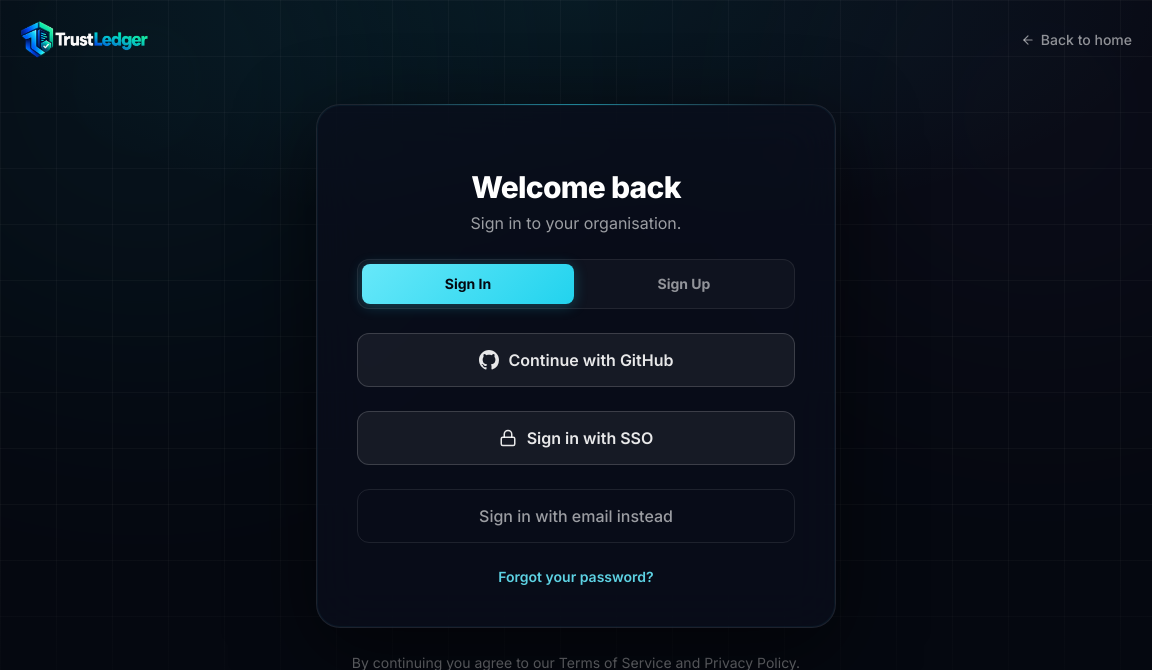
sign in / sign up forms › sign-up still checks the two passwords match
Click the tab "Sign Up" at (684, 284), box [578,264,790,304]
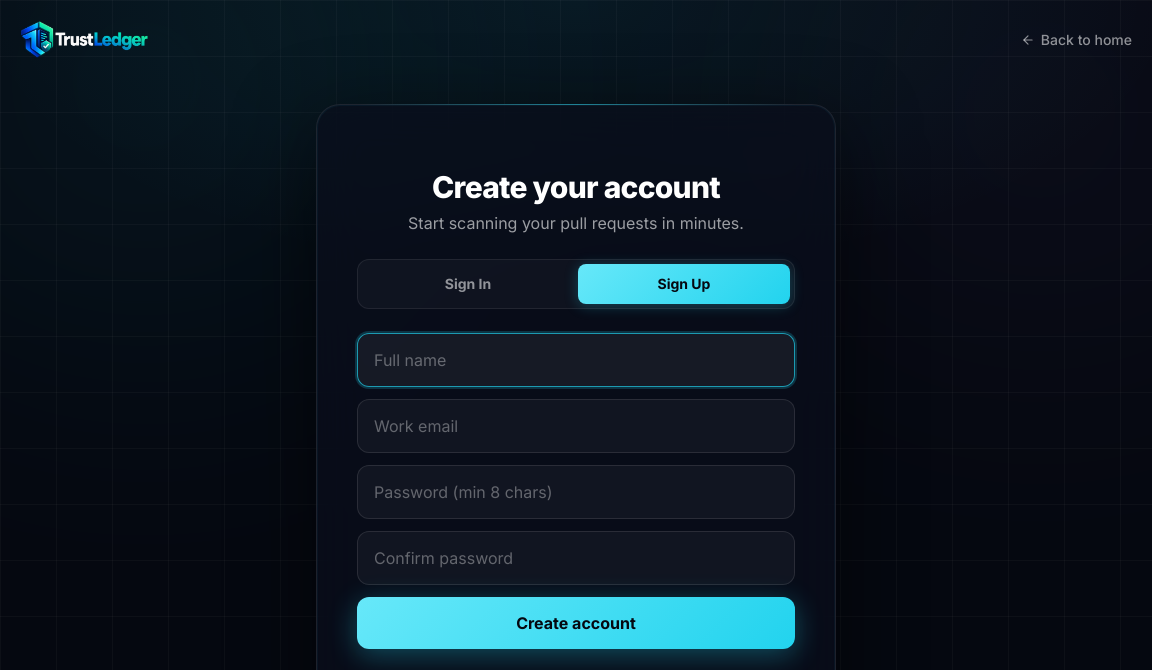
Type "Ana" into the field labelled "Full name" at (576, 360), box [357,333,795,387]
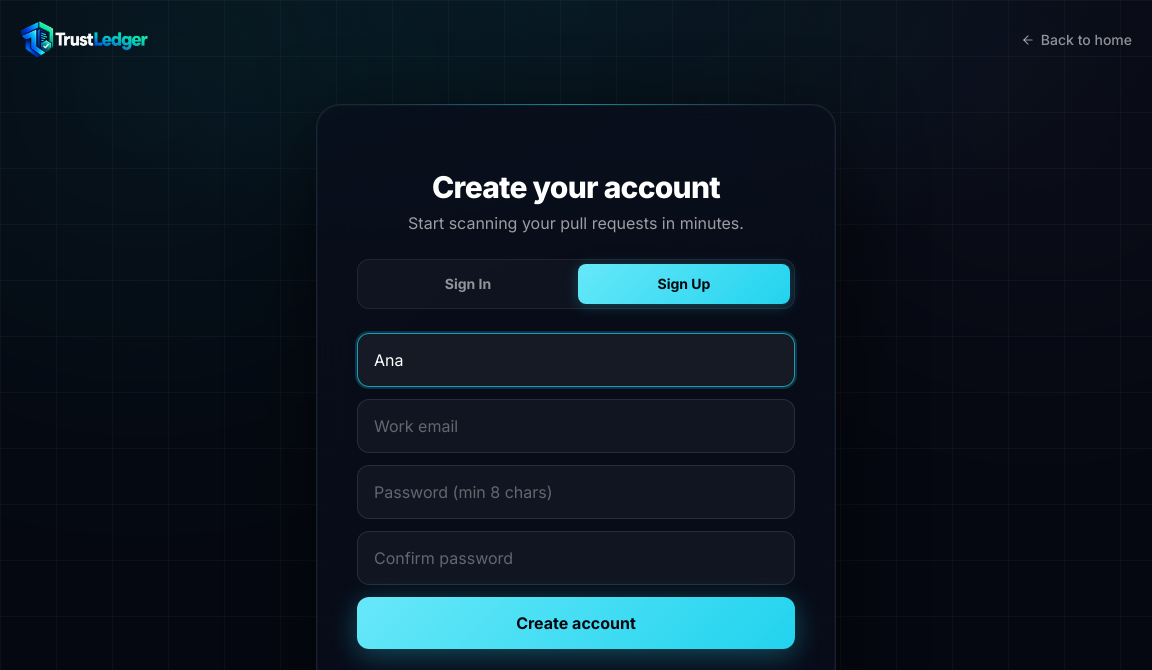
Type "ana@acme.dev" into the field labelled "Work email" at (576, 426), box [357,399,795,453]
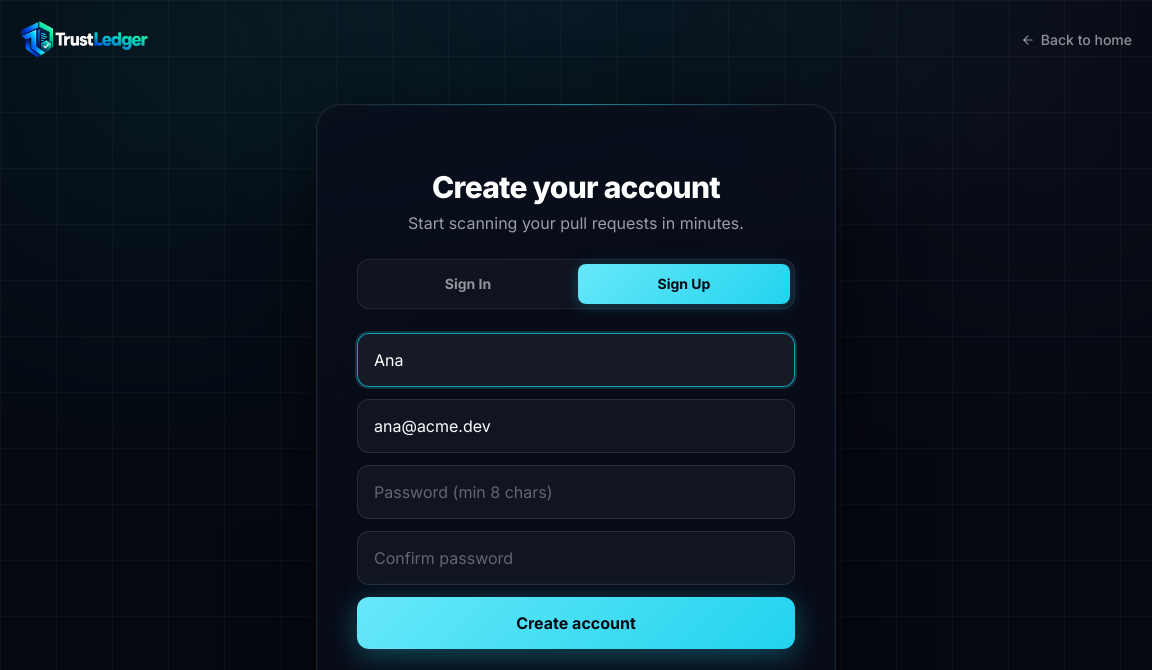
Type "longenough1" into the password field labelled "Password" at (576, 492), box [357,465,795,519]
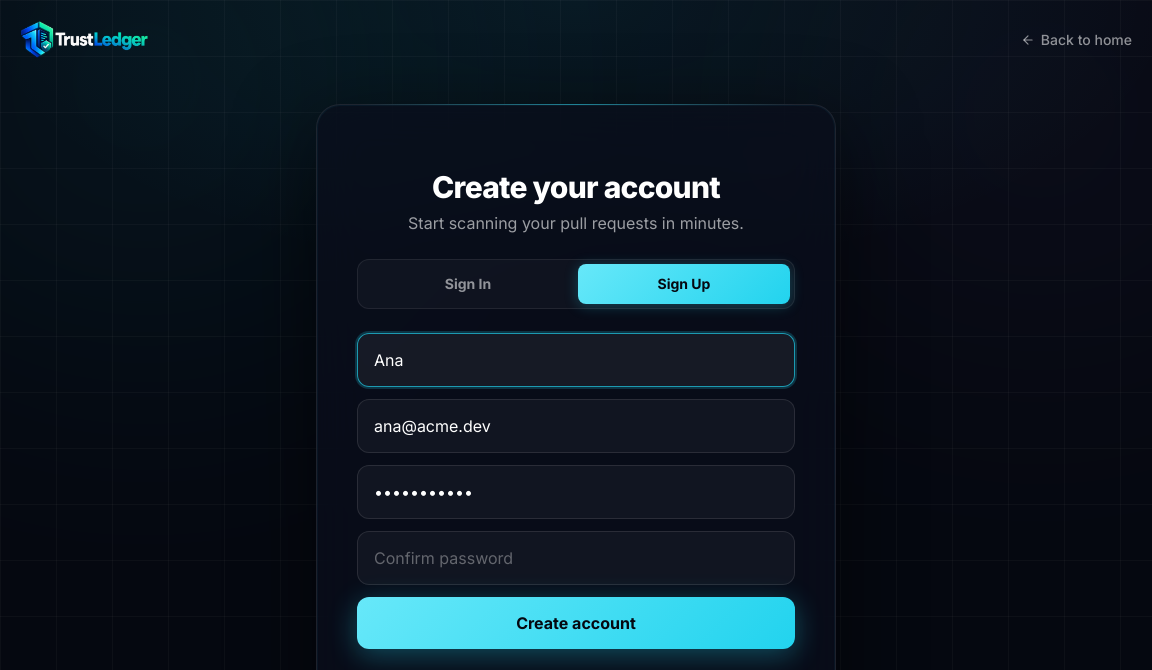
Type "longenough2" into the password field labelled "Confirm password" at (576, 558), box [357,531,795,585]
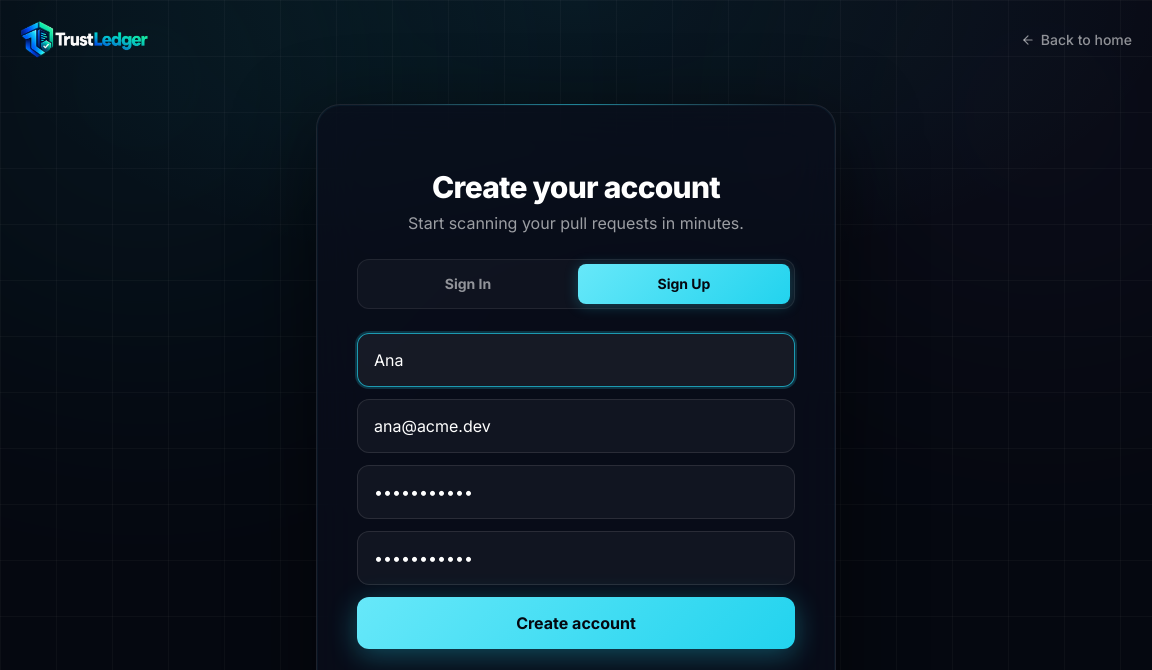
Click the button "Create account" at (576, 623), box [357,597,795,649]
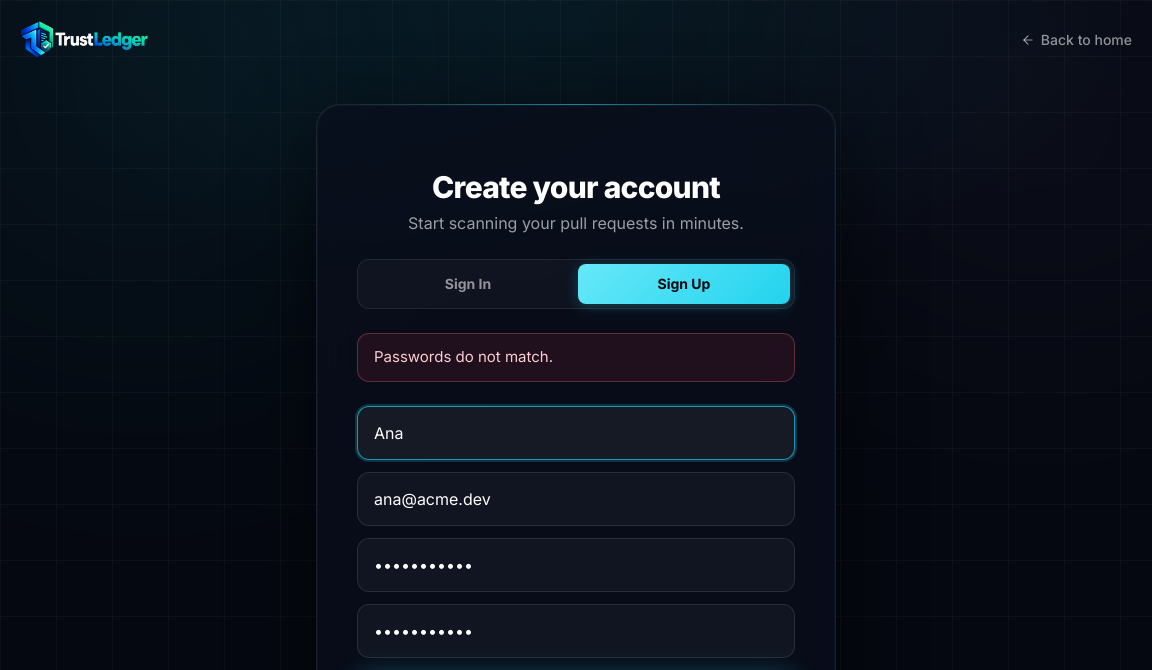
Now the text "Passwords do not match." is shown, box [357,333,795,382]
